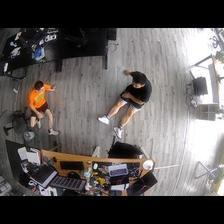fall: (95, 69, 151, 139), (26, 79, 60, 138)
